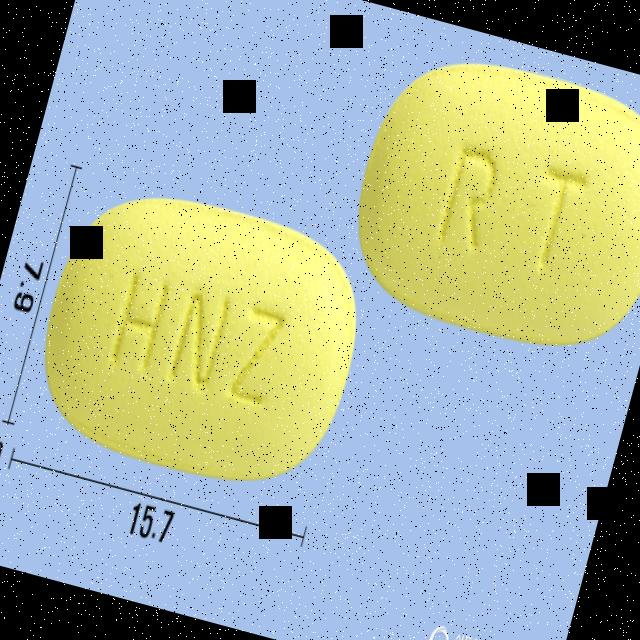Claniz - 500mg: (14, 165, 386, 511), (330, 26, 640, 374)
